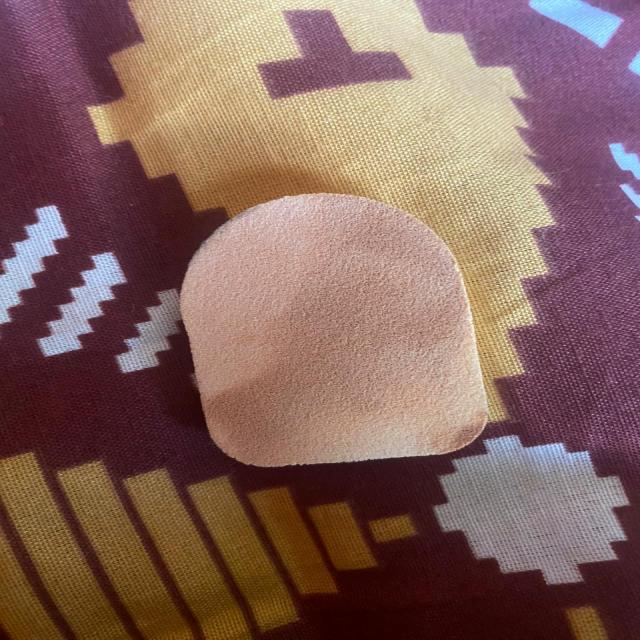beauty blender: (161, 180, 501, 486)
